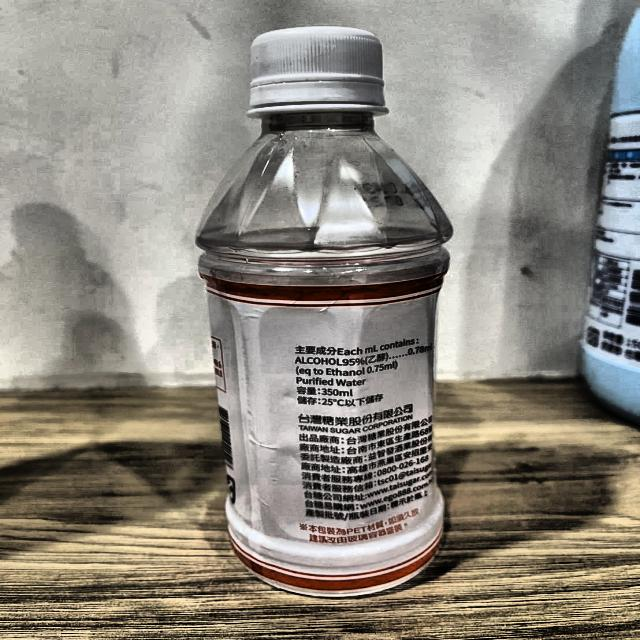Bottles: (179, 12, 469, 606)
